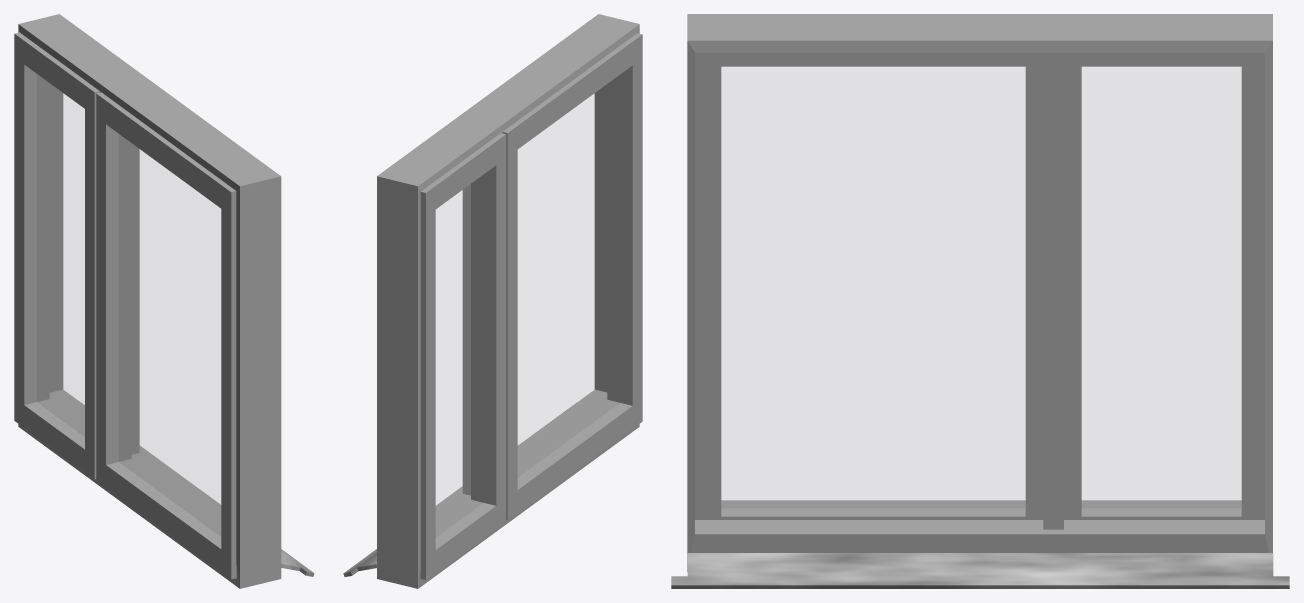
Rendered from Window_Sq.fbx.
3 renders of one model, left to right at view 1: azimuth 30°, elevation 25°; view 2: azimuth 150°, elevation 25°; view 3: azimuth 270°, elevation 25°, orthographic. The views are drawn at different scales.
Parts seen in each view (by area): view 1: Windowsill_south_sq_2-16.001; view 2: Windowsill_south_sq_2-16.001; view 3: Windowsill_south_sq_2-16.001.
Part boxes in pixels (<box>): Windowsill_south_sq_2-16.001: <box>14,14,314,588</box>; Windowsill_south_sq_2-16.001: <box>343,14,642,588</box>; Windowsill_south_sq_2-16.001: <box>671,14,1289,588</box>.
Bounding box in the file's own units: 27.05 × 140 × 148.
3 materials, 3 textured.
